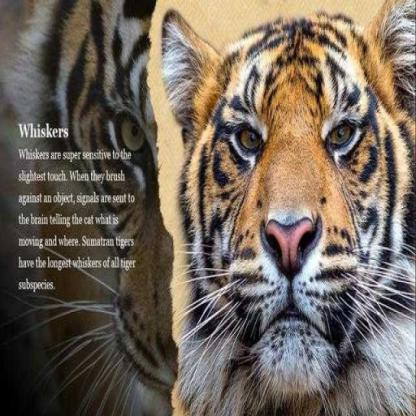Tiger: (155, 3, 415, 396)
